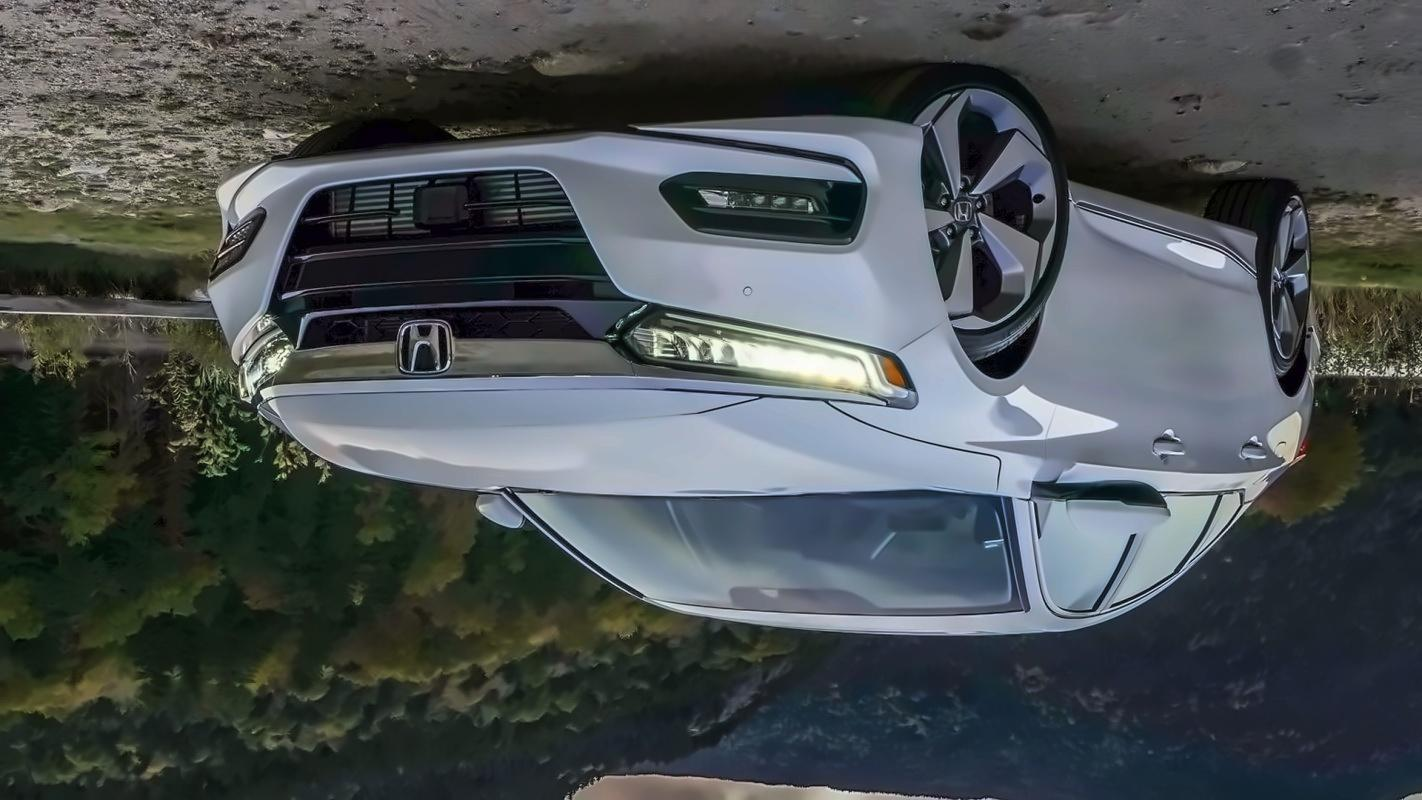Car hood: (260, 385, 1011, 500)
Driver-s door - -F-R-: (1025, 179, 1188, 630)
Fender - -F-R-: (900, 172, 1084, 505)
Front bumper: (192, 107, 943, 349)
Headlight - -L-: (212, 320, 306, 420)
Headlight - -R-: (600, 295, 931, 417)
Passenger-s door - -R-R-: (1160, 205, 1278, 630)
Side bumper - -R-: (1044, 165, 1264, 281)
Side mirror - -L-: (457, 470, 544, 544)
Side mirror - -R-: (1042, 470, 1185, 538)
